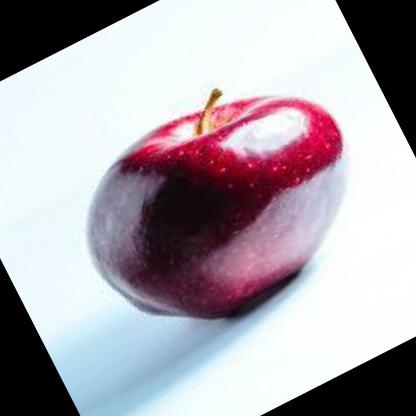apple: (45, 45, 398, 367)
